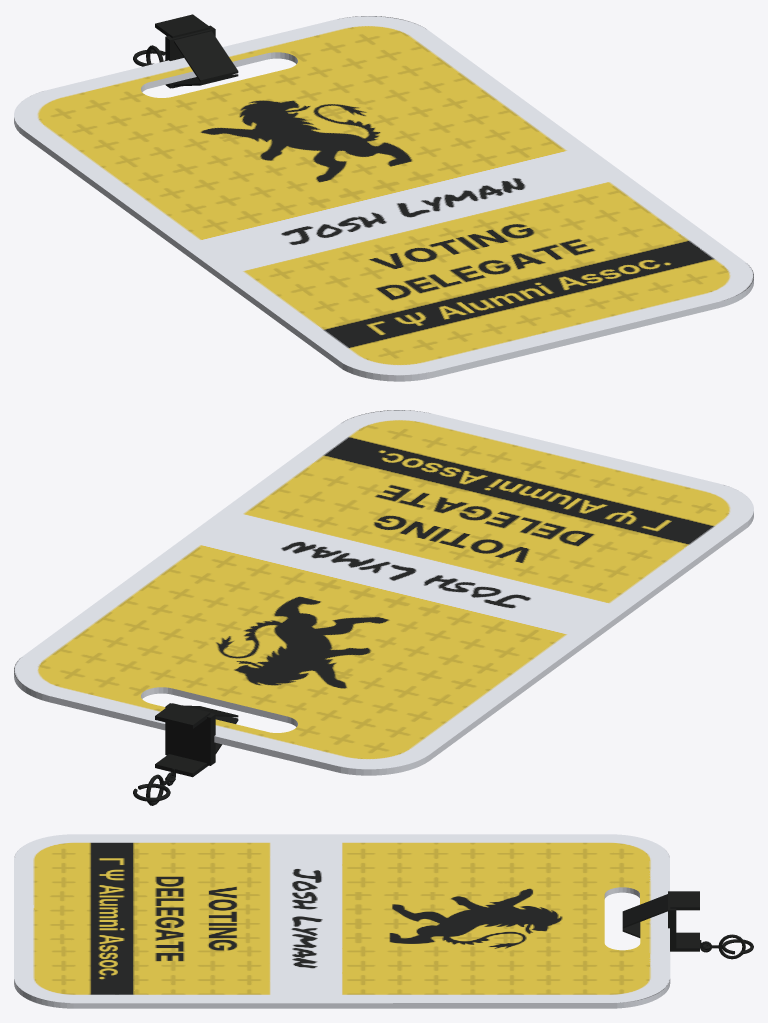
File: card3-original.glb
3 views of the same model, one above another, from view 1: azimuth 30°, elevation 25°; view 2: azimuth 150°, elevation 25°; view 3: azimuth 270°, elevation 25° (orthographic). The views are drawn at different scales.
Visible parts, largest first — view 1: card, clip; view 2: card, clip; view 3: card, clip.
Part boxes in pixels (x1,y1,x2,y2): card: (14,16,753,381); clip: (146,14,238,88); card: (14,410,753,775); clip: (146,703,238,805); card: (14,834,670,1008); clip: (622,891,745,959).
Size of the model in its own units: 3.35 by 0.555 by 6.2.
4 materials, 2 textured.
